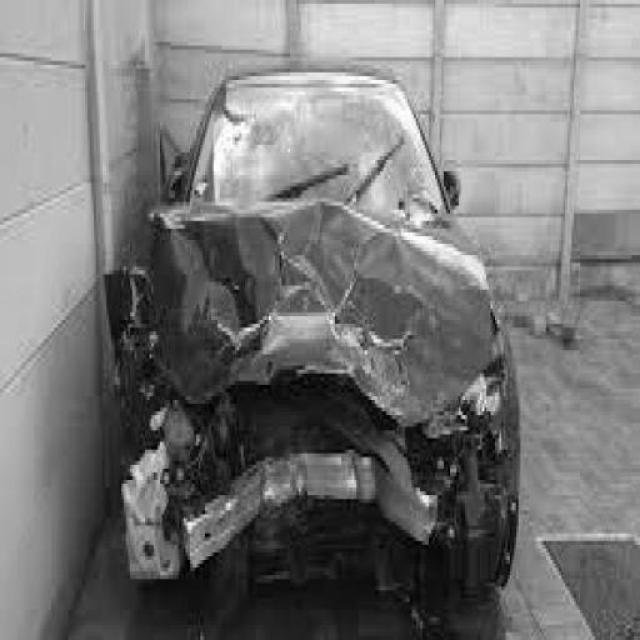crush: (103, 134, 524, 621)
